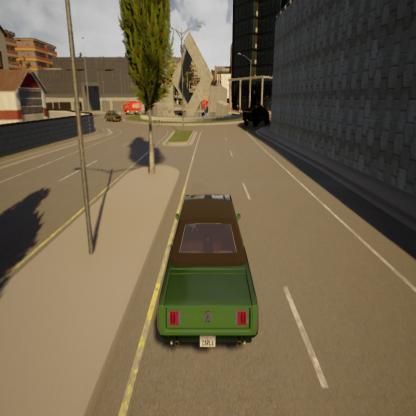Cars: (158, 192, 259, 348), (243, 105, 270, 129), (124, 99, 142, 115), (104, 108, 122, 123)
